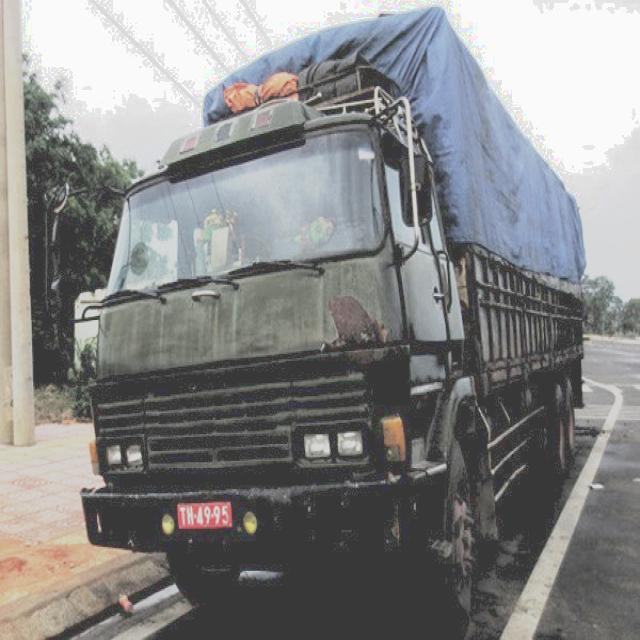license_plate: (176, 504, 236, 530)
